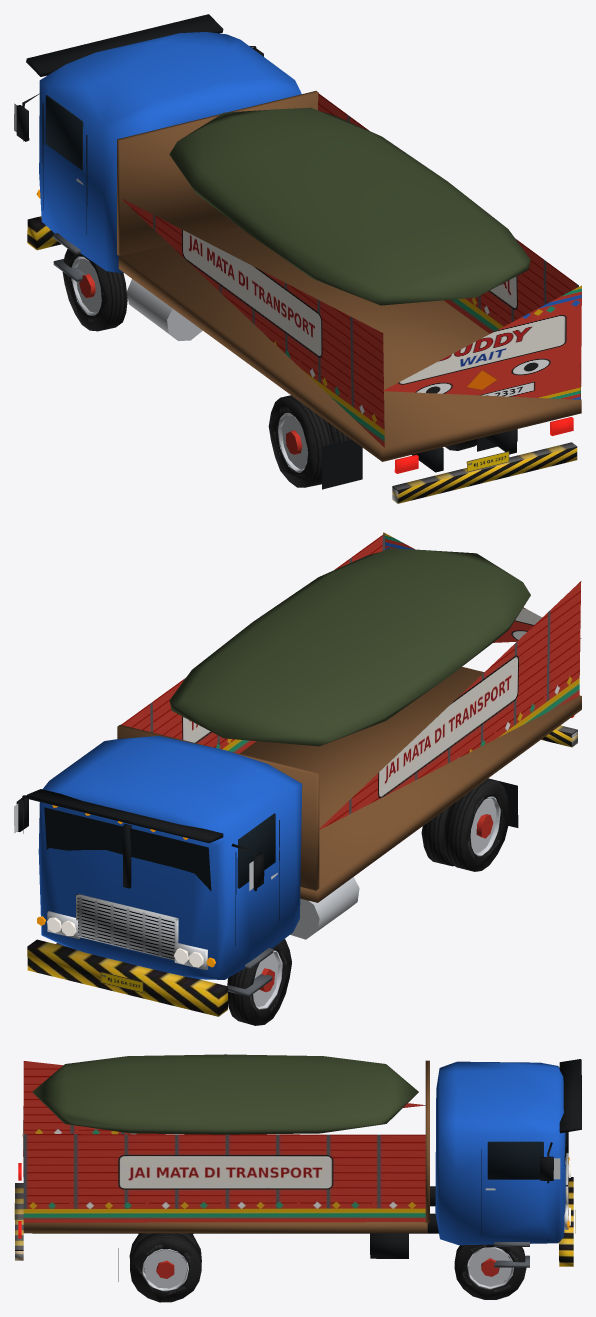
The model's file is truck1_far.glb.
3 views of the same model, one above another, from view 1: azimuth 30°, elevation 25°; view 2: azimuth 150°, elevation 25°; view 3: azimuth 270°, elevation 25° (orthographic). The views are drawn at different scales.
Visible parts, largest first — view 1: truck_Parts, truck_CabPaint, truck_TruckSide1, truck_TruckRear1, truck_Tyre, truck_Glass, truck_Lamps; view 2: truck_Parts, truck_CabPaint, truck_TruckSide1, truck_Glass, truck_Tyre, truck_TruckRear1, truck_Lamps; view 3: truck_Parts, truck_TruckSide1, truck_CabPaint, truck_Tyre, truck_Glass.
Part boxes in pixels (x1,y1,x2,y2): truck_Parts: [14, 14, 581, 503]; truck_CabPaint: [39, 32, 301, 272]; truck_TruckSide1: [121, 93, 580, 447]; truck_TruckRear1: [383, 285, 581, 399]; truck_Tyre: [62, 249, 476, 487]; truck_Glass: [45, 95, 83, 170]; truck_Lamps: [36, 189, 573, 473]; truck_Parts: [14, 548, 581, 1016]; truck_CabPaint: [38, 736, 302, 979]; truck_TruckSide1: [121, 533, 581, 829]; truck_Glass: [44, 807, 275, 891]; truck_Tyre: [227, 778, 509, 1025]; truck_TruckRear1: [383, 532, 581, 642]; truck_Lamps: [37, 715, 574, 967]; truck_Parts: [14, 1054, 581, 1291]; truck_TruckSide1: [23, 1061, 425, 1222]; truck_CabPaint: [435, 1061, 565, 1245]; truck_Tyre: [129, 1233, 526, 1302]; truck_Glass: [487, 1132, 568, 1179].
Bounding box in the file's own units: 2.93 × 2.88 × 7.87.
Materials: 7 (5 with a texture image).
